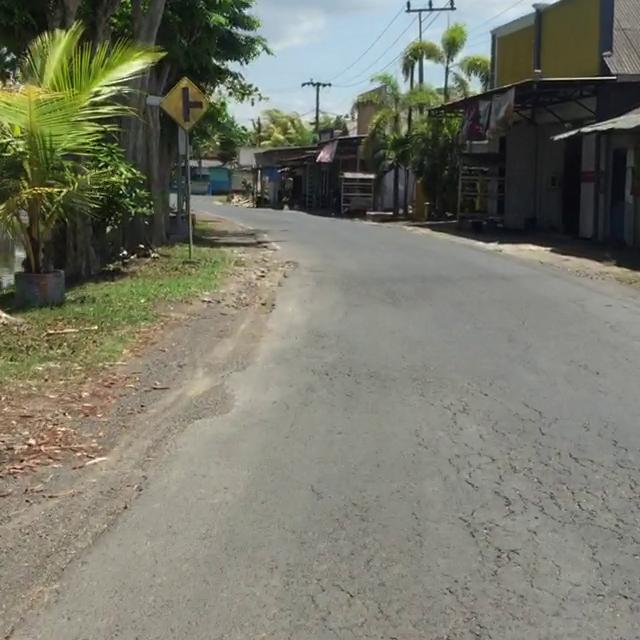retak_kulit_buaya: (454, 394, 640, 578)
